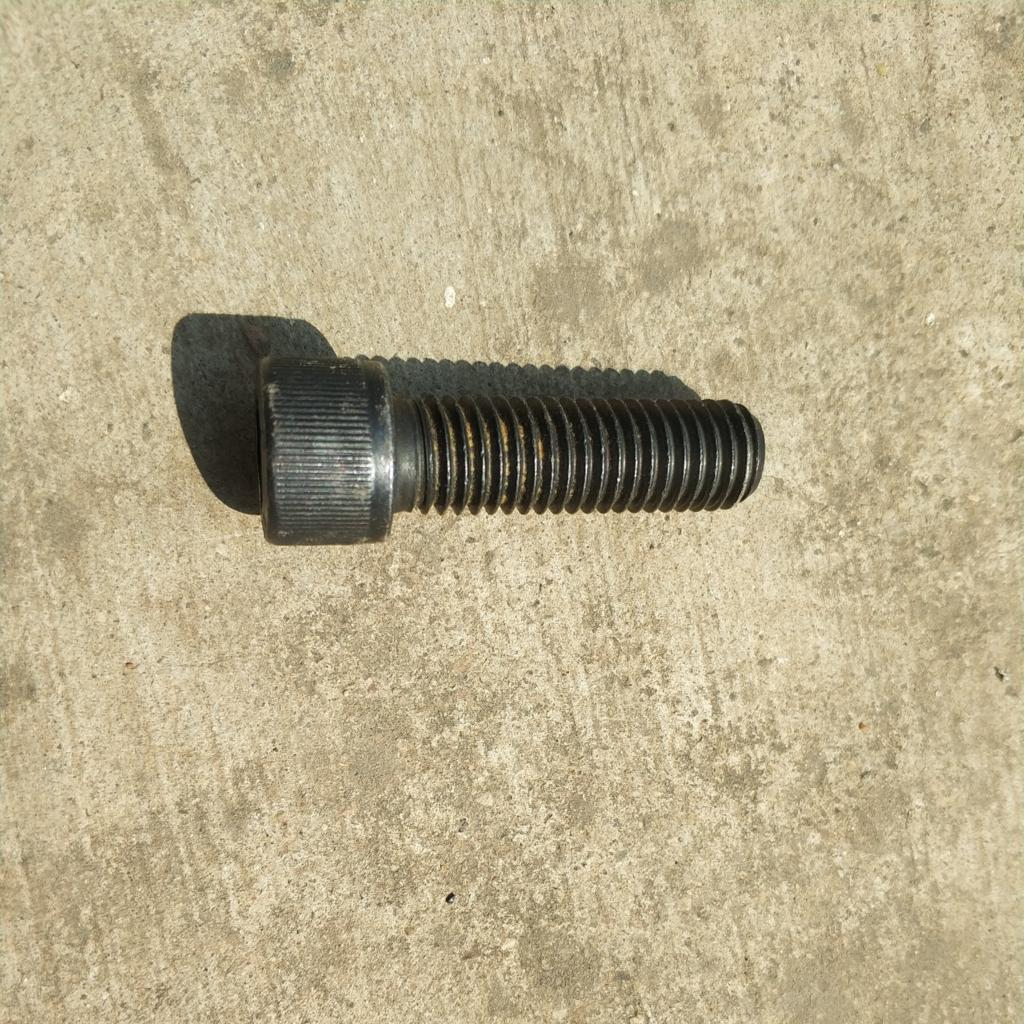screwtype1black: (247, 348, 770, 552)
